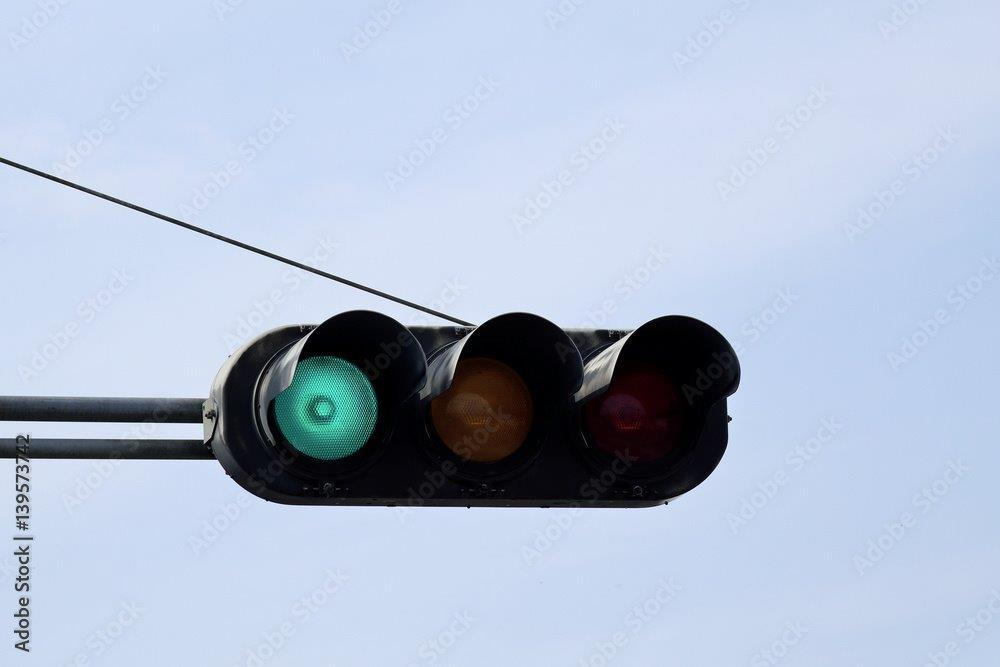cars: (212, 315, 740, 504)
